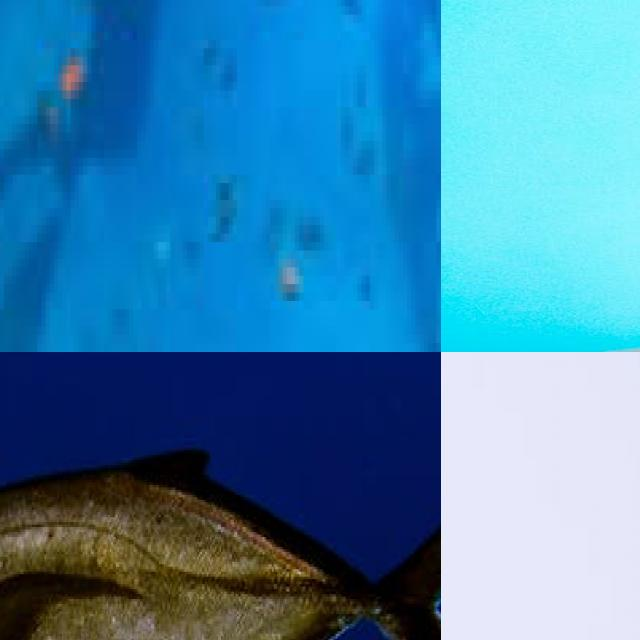fish: (0, 0, 441, 352), (0, 352, 441, 640), (441, 352, 640, 640), (441, 80, 640, 352)
